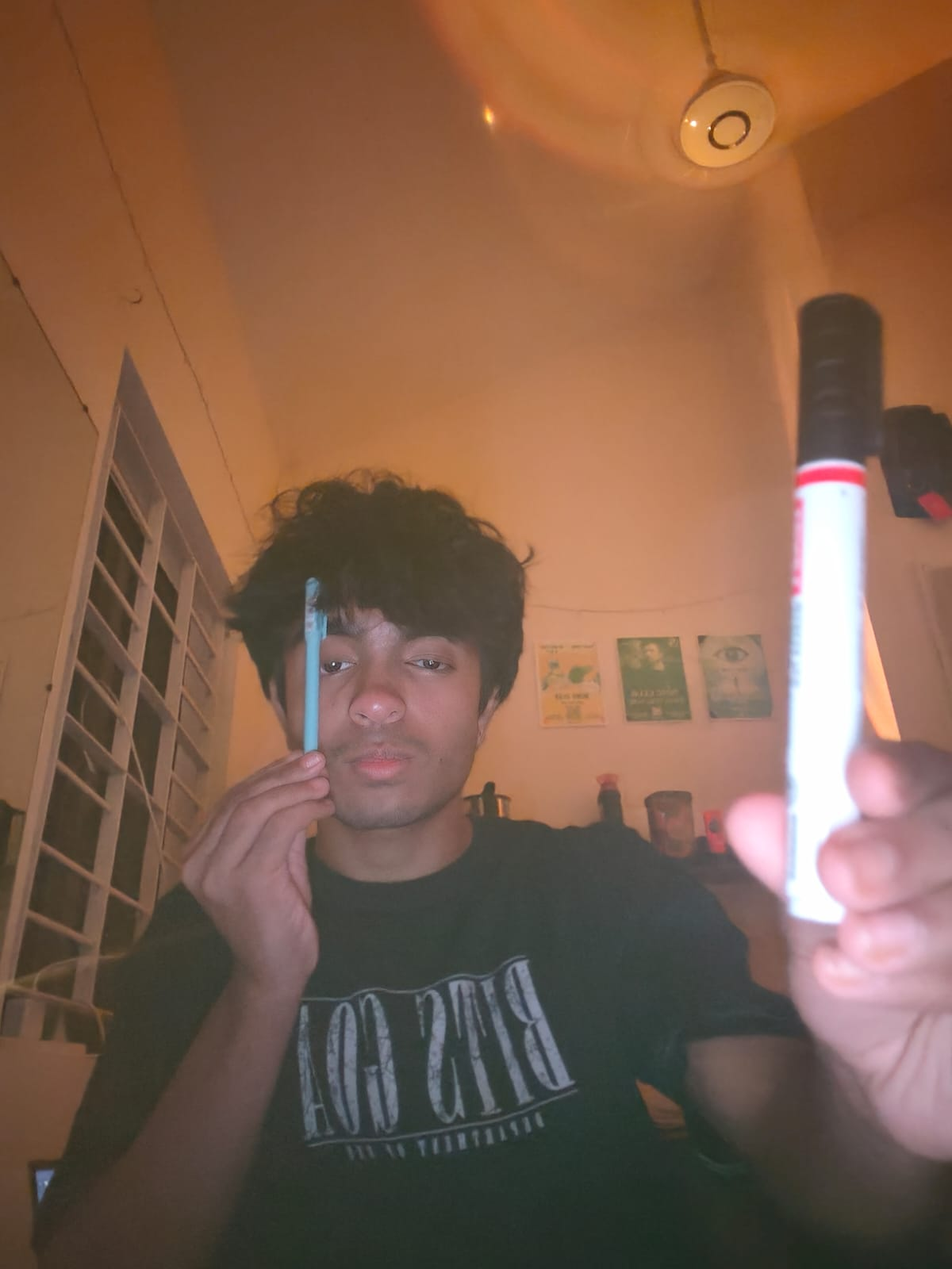case: (777, 289, 888, 934)
pen: (297, 573, 325, 789)
